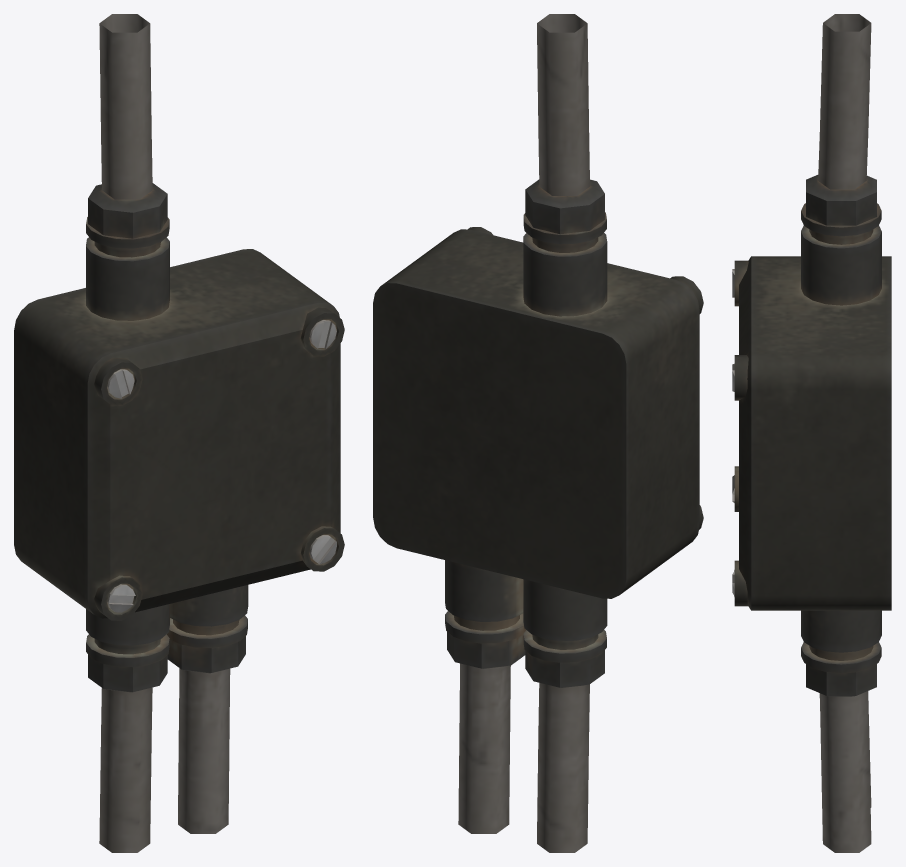
The model's file is cable_box_double_to_single.glb.
3 renders of one model, left to right at view 1: azimuth 30°, elevation 25°; view 2: azimuth 150°, elevation 25°; view 3: azimuth 270°, elevation 25°, orthographic. The views are drawn at different scales.
Visible parts, largest first — view 1: cable_box_double_to_single.001; view 2: cable_box_double_to_single.001; view 3: cable_box_double_to_single.001.
Part boxes in pixels (left/top/right/bottom): cable_box_double_to_single.001: left=14, top=14, right=344, bottom=852; cable_box_double_to_single.001: left=373, top=14, right=703, bottom=852; cable_box_double_to_single.001: left=732, top=14, right=891, bottom=852.
Size of the model in its own units: 0.0646 by 0.2 by 0.0369.
Materials: 1 (1 with a texture image).
